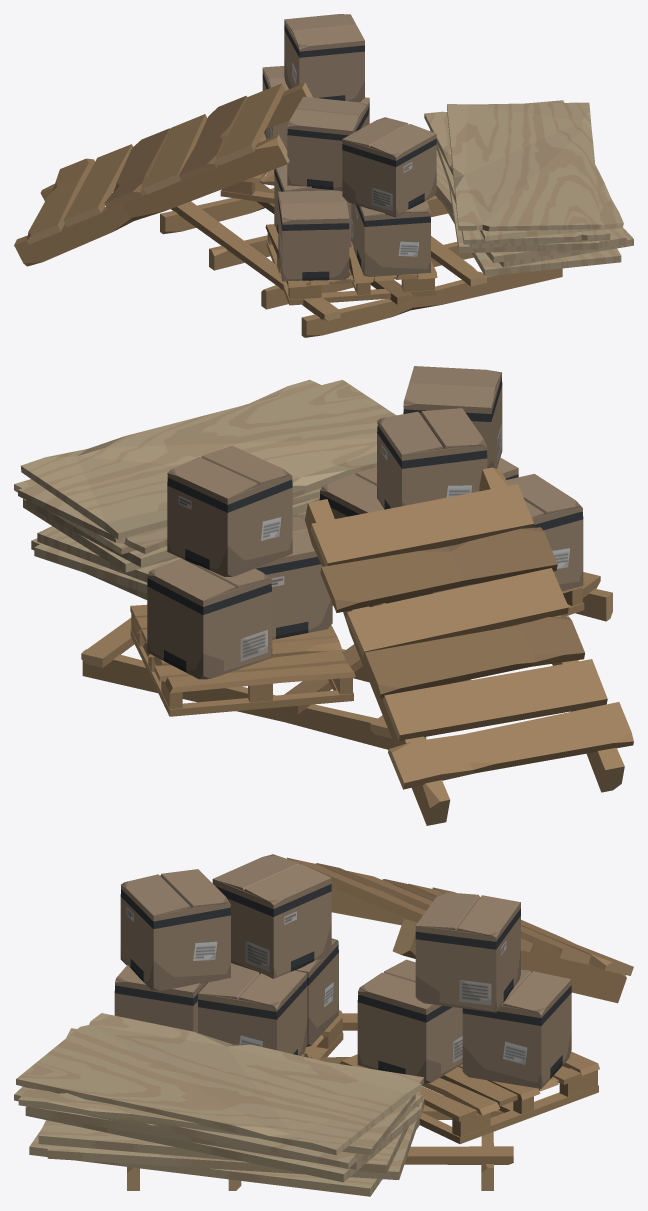
Rendered from wood.gltf.
3 views of the same model, one above another, from view 1: azimuth 30°, elevation 25°; view 2: azimuth 150°, elevation 25°; view 3: azimuth 270°, elevation 25° (orthographic). The views are drawn at different scales.
Parts seen in each view (by area): view 1: SM_Prop_CardboardBox_Stack_02 (3), SM_Prop_Plywood_Stack_01, SM_Prop_Wood_Walkway_01, SM_Prop_Wood_Frame_01, SM_Prop_CardboardBox_Stack_03; view 2: SM_Prop_Wood_Walkway_01, SM_Prop_CardboardBox_Stack_03, SM_Prop_Plywood_Stack_01, SM_Prop_CardboardBox_Stack_02 (3), SM_Prop_Wood_Frame_01; view 3: SM_Prop_Plywood_Stack_01, SM_Prop_CardboardBox_Stack_03, SM_Prop_CardboardBox_Stack_02 (3), SM_Prop_Wood_Walkway_01, SM_Prop_Wood_Frame_01.
Part boxes in pixels (<box>): SM_Prop_CardboardBox_Stack_02 (3): <box>265,96,437,305</box>; SM_Prop_Plywood_Stack_01: <box>424,100,633,276</box>; SM_Prop_Wood_Walkway_01: <box>14,82,312,266</box>; SM_Prop_Wood_Frame_01: <box>160,183,562,337</box>; SM_Prop_CardboardBox_Stack_03: <box>220,14,369,203</box>; SM_Prop_Wood_Walkway_01: <box>305,467,633,825</box>; SM_Prop_CardboardBox_Stack_03: <box>130,445,355,716</box>; SM_Prop_Plywood_Stack_01: <box>14,379,395,599</box>; SM_Prop_CardboardBox_Stack_02 (3): <box>319,366,586,629</box>; SM_Prop_Wood_Frame_01: <box>81,572,612,749</box>; SM_Prop_Plywood_Stack_01: <box>14,1013,424,1196</box>; SM_Prop_CardboardBox_Stack_03: <box>340,892,599,1143</box>; SM_Prop_CardboardBox_Stack_02 (3): <box>114,854,343,1059</box>; SM_Prop_Wood_Walkway_01: <box>287,857,633,1003</box>; SM_Prop_Wood_Frame_01: <box>127,1013,513,1190</box>.
Size of the model in its own units: 5.71 by 1.85 by 4.74.
1 material, 1 textured.
